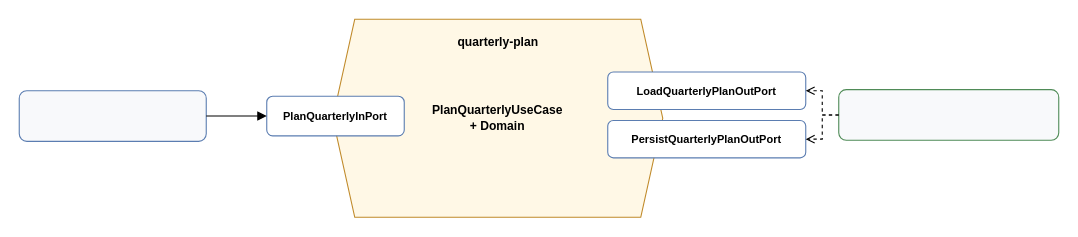
The diagram is 1078 pixels wide and 237 high, and some of its shapes have lost their labels. Each missing label, with the box of its shape:
LocalStorageQuarterlyPlanRepository: (838, 89, 1059, 140)
QuarterlyPlanComponent: (18, 90, 206, 141)
